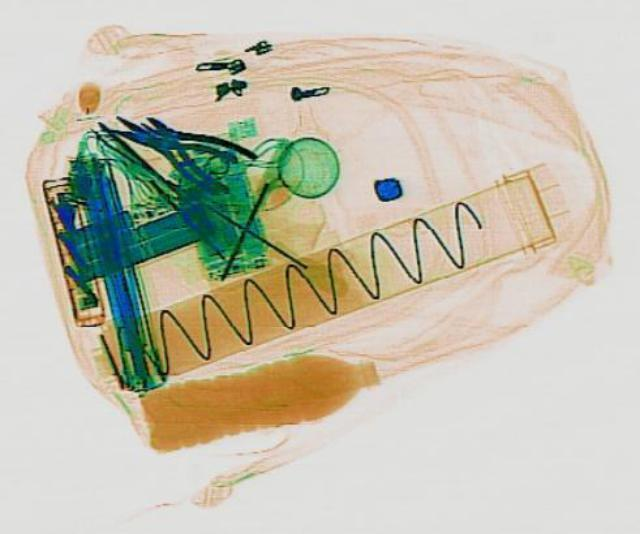Pliers: (118, 103, 260, 198), (100, 111, 244, 194)
